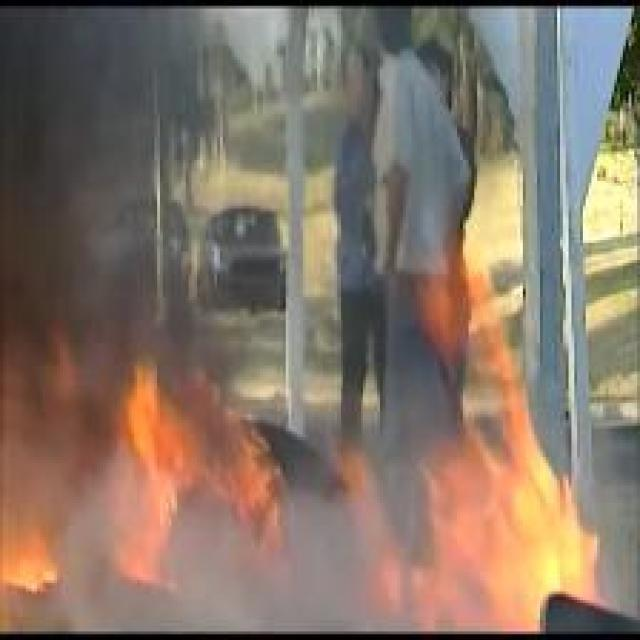Fire: (336, 243, 622, 632), (0, 361, 291, 595)
